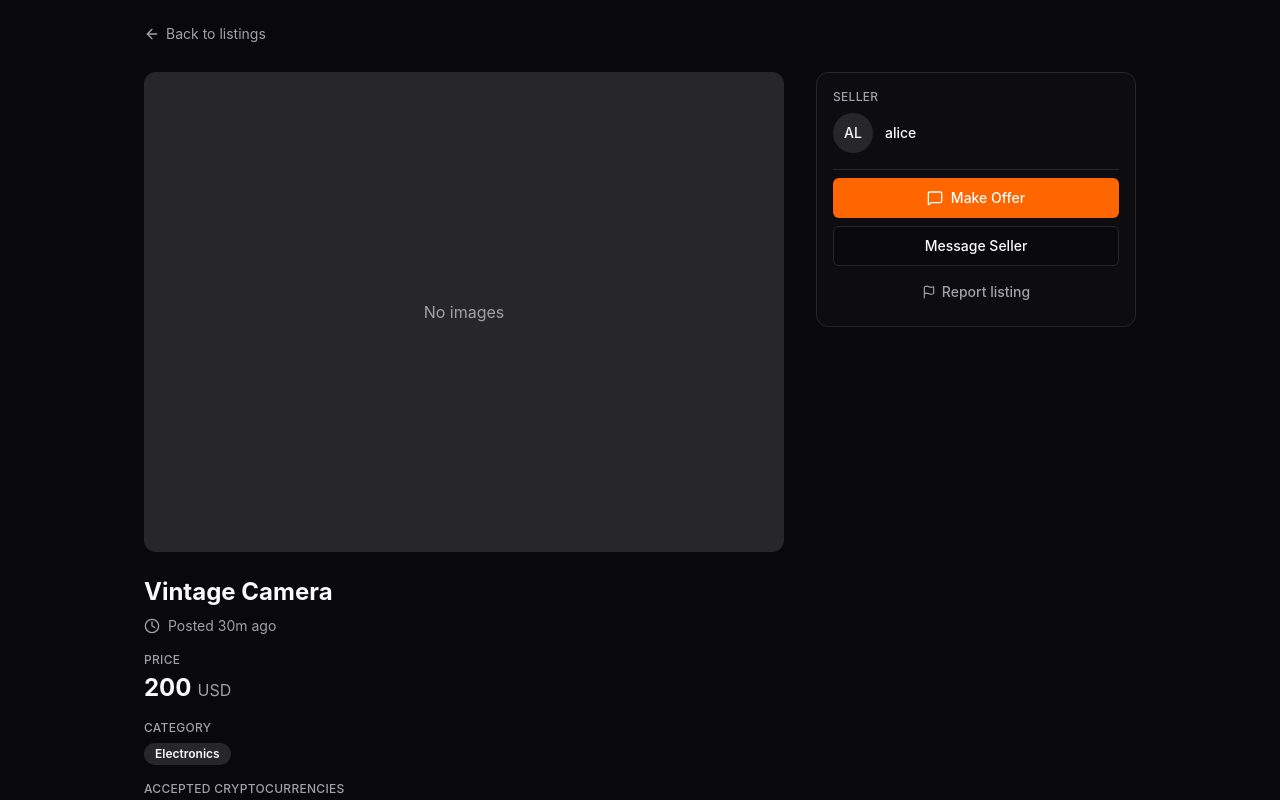
it: ListingDetailPage — report listing › opens report dialog on click
Step 1. Click the button with test id "report-button" → (976, 292), box [833,274,1119,310]
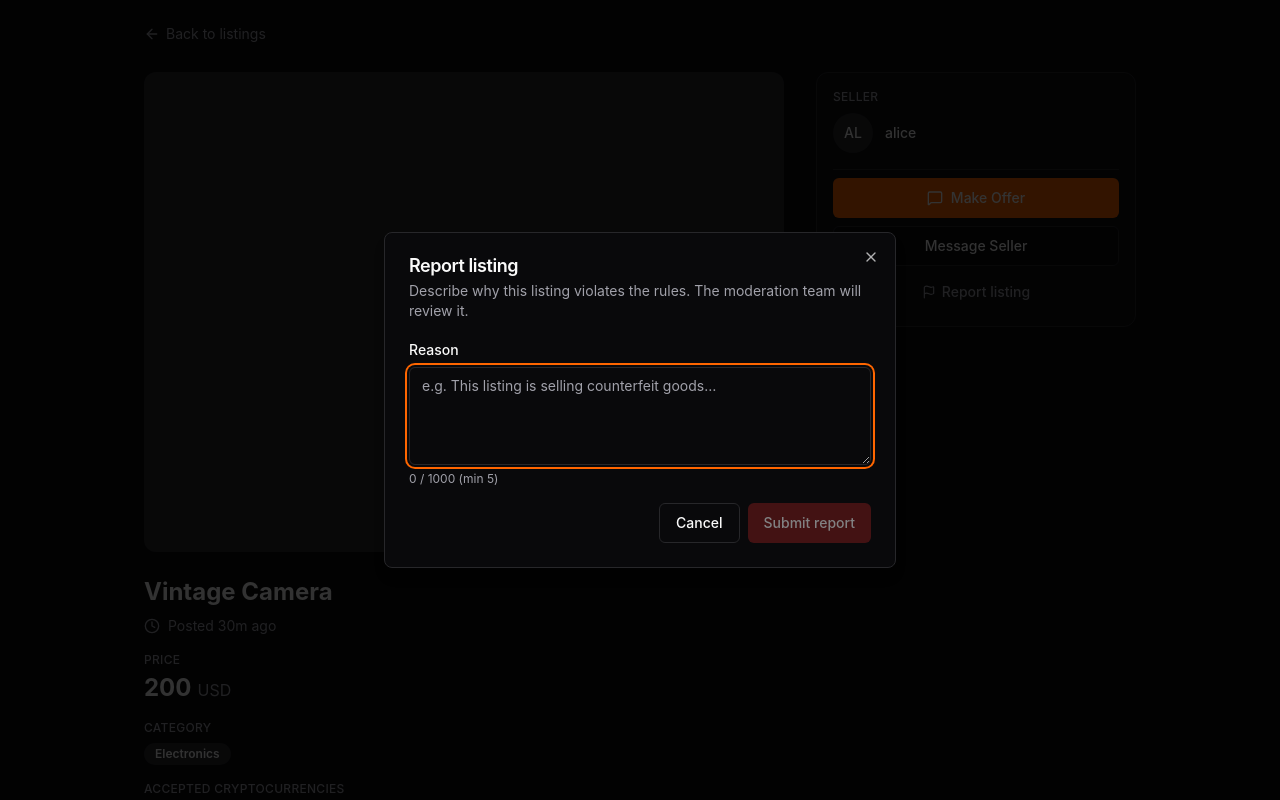
Now the dialog is shown, box [384,232,896,568]
Now the text box with test id "report-reason-input" is shown, box [409,367,871,465]
